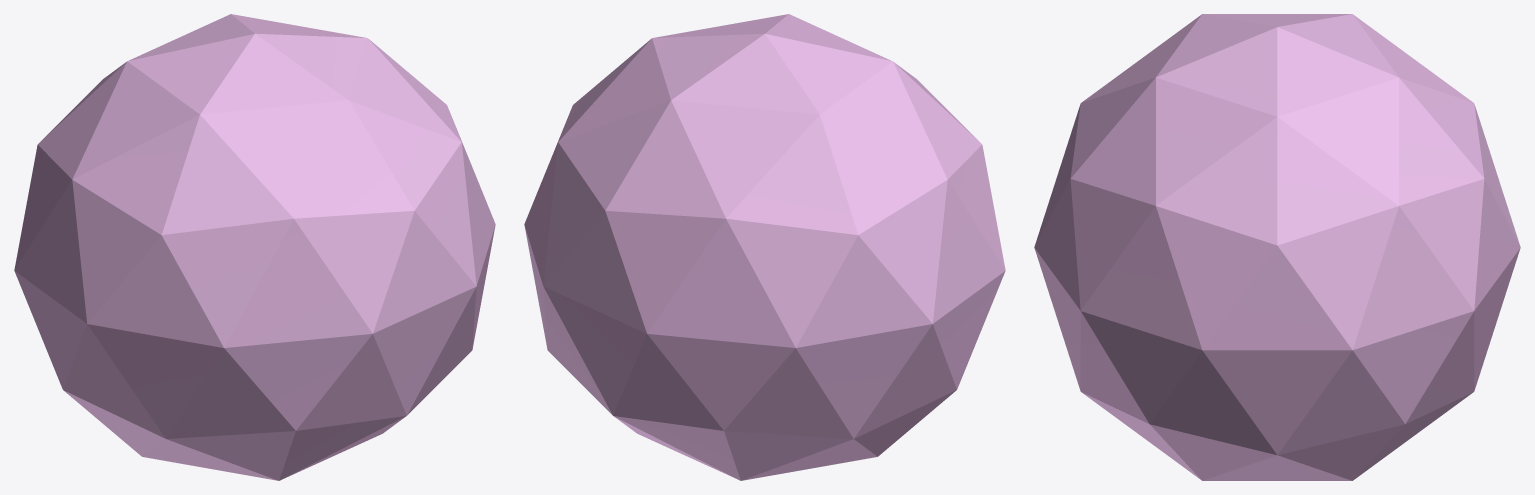
Rendered from helloGLTFTwoPink.glb.
3 views of the same model, side by side, from view 1: azimuth 30°, elevation 25°; view 2: azimuth 150°, elevation 25°; view 3: azimuth 270°, elevation 25° (orthographic). The views are drawn at different scales.
Visible parts, largest first — view 1: Icosphere; view 2: Icosphere; view 3: Icosphere.
Part boxes in pixels (<box>): Icosphere: <box>14,14,495,480</box>; Icosphere: <box>524,14,1005,480</box>; Icosphere: <box>1034,14,1520,480</box>.
Bounding box in the file's own units: 2 × 2 × 2.
1 material, 1 textured.
